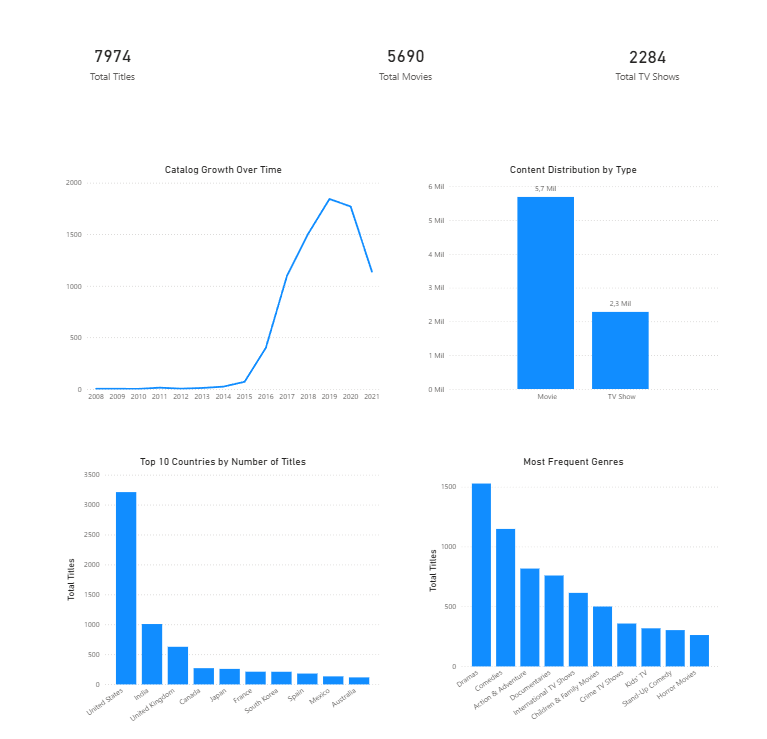

The dashboard page shown, as its layout file describes it:
{"tool":"powerbi","page":{"name":"Página 1","canvas":[1400,1400],"ordinal":0},"visuals":[{"type":"card","fields":{"Values":["netflix_bi_dataset.Total Titles"]},"box":[48.3,15,371.7,308.3],"z":0},{"type":"lineChart","title":"Catalog Growth Over Time","fields":{"Category":["netflix_bi_dataset.year_added"],"Y":["netflix_bi_dataset.Total Titles"]},"box":[151.7,338.3,535,406.7],"z":1000},{"type":"columnChart","title":"Content Distribution by Type","fields":{"Category":["netflix_bi_dataset.type"],"Y":["netflix_bi_dataset.Total Titles"]},"box":[755,338.3,495,406.7],"z":2000},{"type":"clusteredColumnChart","title":"Top 10 Countries by Number of Titles","fields":{"Category":["netflix_bi_dataset.country"],"Y":["netflix_bi_dataset.Total Titles"]},"box":[151.7,825,533.3,468.3],"z":4000},{"type":"clusteredColumnChart","title":"Most Frequent Genres","fields":{"Category":["netflix_bi_dataset.genre"],"Y":["netflix_bi_dataset.Total Titles"]},"box":[755,825,495,468.3],"z":5000},{"type":"card","fields":{"Values":["netflix_bi_dataset.Total Movies"]},"box":[538.3,0,368.3,338.3],"z":6000},{"type":"card","fields":{"Values":["netflix_bi_dataset.Total TV Shows"]},"box":[906.7,31.7,438.3,276.7],"z":7000}]}

Visuals, with their boxes on the page's 1400x1400 design canvas (x1, y1, x2, y2). These are canvas units, not pixel positions in the 767x739 screenshot, which may show the page scaled, cropped or inside an application window:
card - netflix_bi_dataset.Total Titles: {"left": 48, "top": 15, "right": 420, "bottom": 323}
"Catalog Growth Over Time" lineChart: {"left": 152, "top": 338, "right": 687, "bottom": 745}
"Content Distribution by Type" columnChart: {"left": 755, "top": 338, "right": 1250, "bottom": 745}
"Top 10 Countries by Number of Titles" clusteredColumnChart: {"left": 152, "top": 825, "right": 685, "bottom": 1293}
"Most Frequent Genres" clusteredColumnChart: {"left": 755, "top": 825, "right": 1250, "bottom": 1293}
card - netflix_bi_dataset.Total Movies: {"left": 538, "top": 0, "right": 907, "bottom": 338}
card - netflix_bi_dataset.Total TV Shows: {"left": 907, "top": 32, "right": 1345, "bottom": 308}
